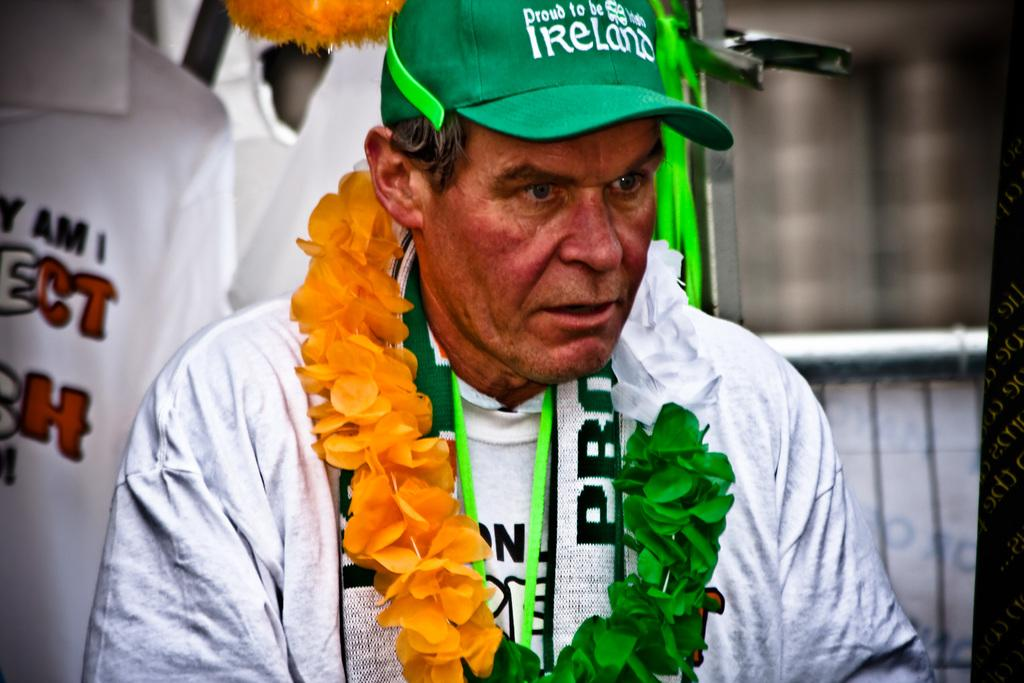Hat: (378, 0, 736, 151)
